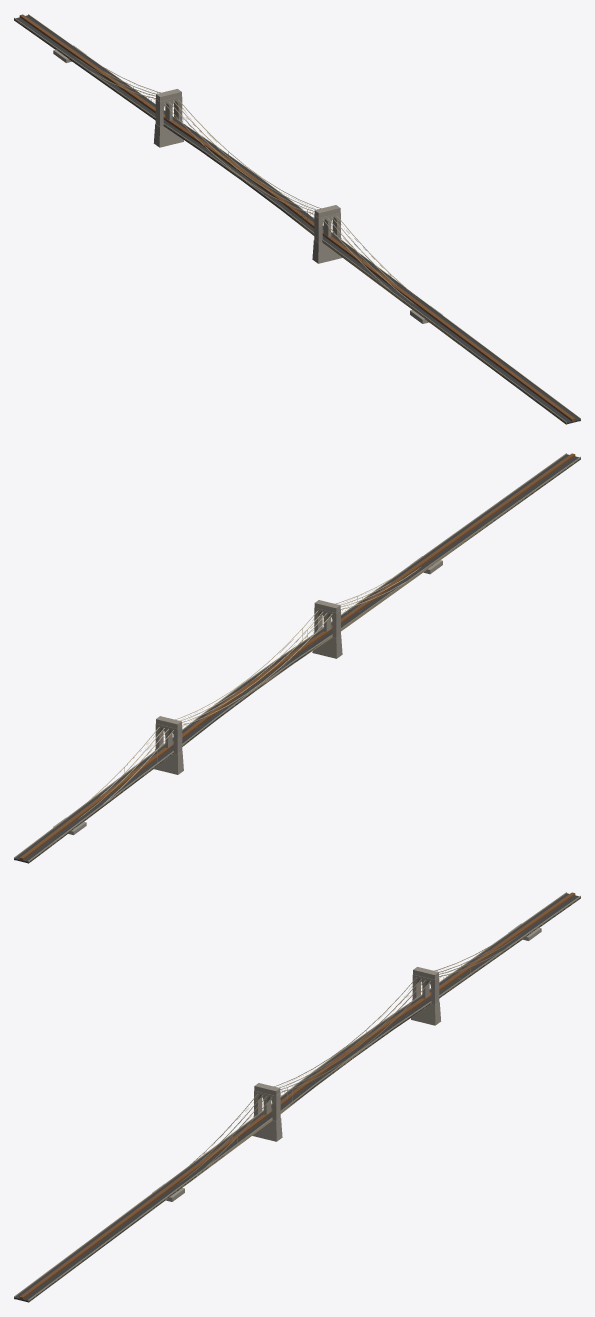
3 renders of one model, top to bottom at view 1: azimuth 30°, elevation 25°; view 2: azimuth 150°, elevation 25°; view 3: azimuth 330°, elevation 25°, orthographic.
Visible parts, largest first — view 1: brooklyn-bridge-lod2-body; view 2: brooklyn-bridge-lod2-body; view 3: brooklyn-bridge-lod2-body.
Boxes of the visible parts, <box> form: brooklyn-bridge-lod2-body: <box>14,14,580,424</box>; brooklyn-bridge-lod2-body: <box>14,453,580,863</box>; brooklyn-bridge-lod2-body: <box>14,892,580,1302</box>.
Size of the model in its own units: 43 by 84 by 1692.
